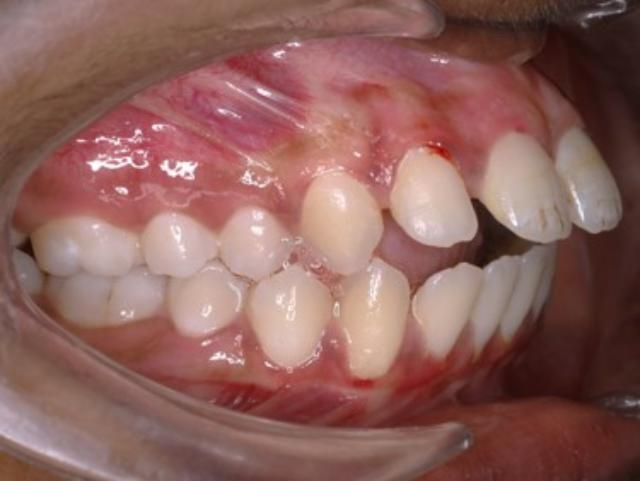canine class II 1/4: (250, 159, 412, 393)
molar class I: (25, 204, 165, 358)
